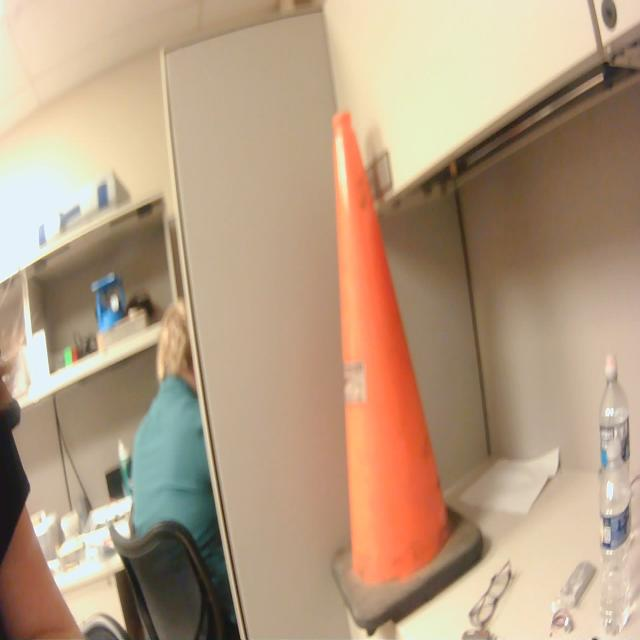traffic cone: (328, 102, 488, 640)
